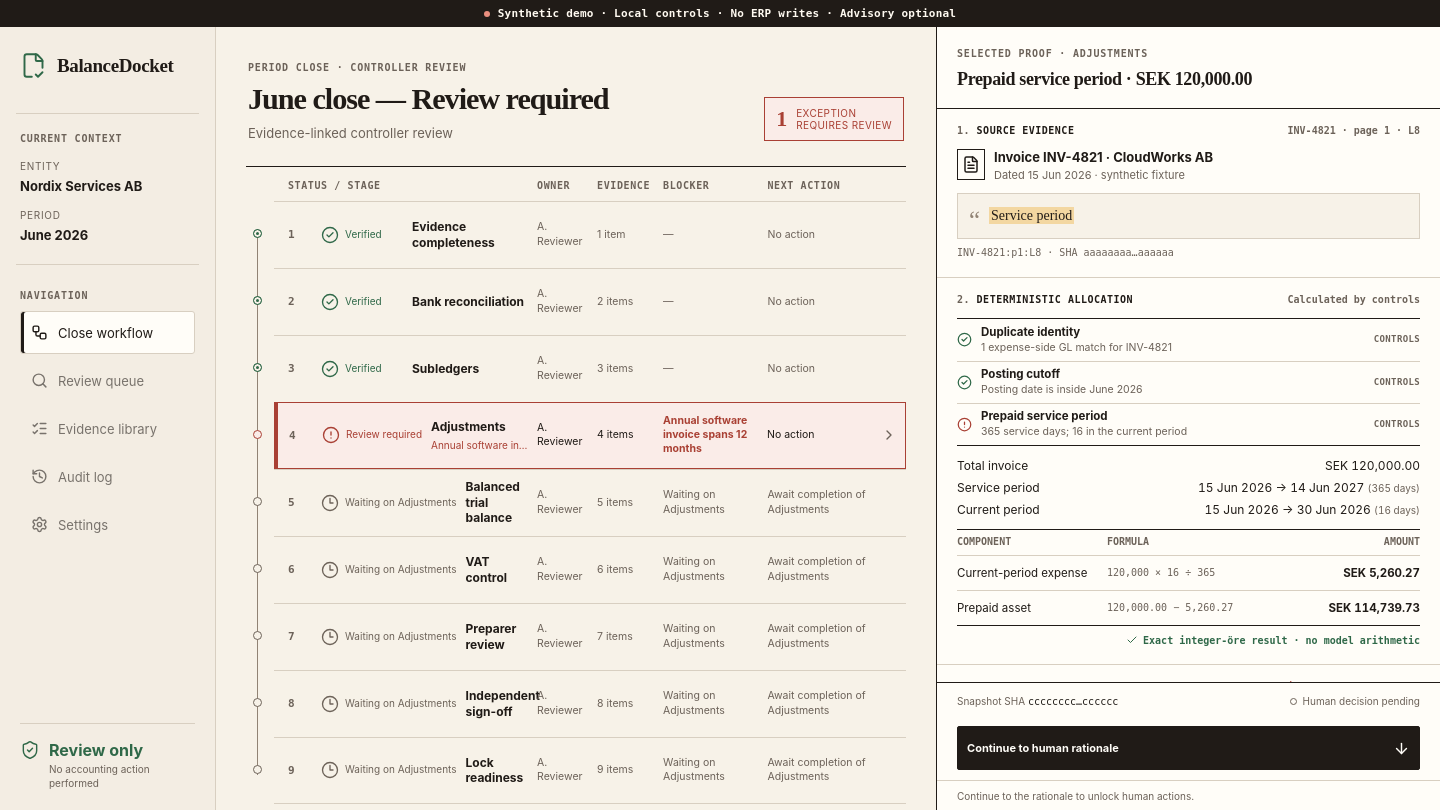
BalanceDocket reviewer › guides the reviewer to rationale before recording the bound decision
expect the button "Approve treatment" is not shown: met
Click the button "Continue to human rationale" at (1043, 748), box [957,726,1420,770]
(page scrolled)
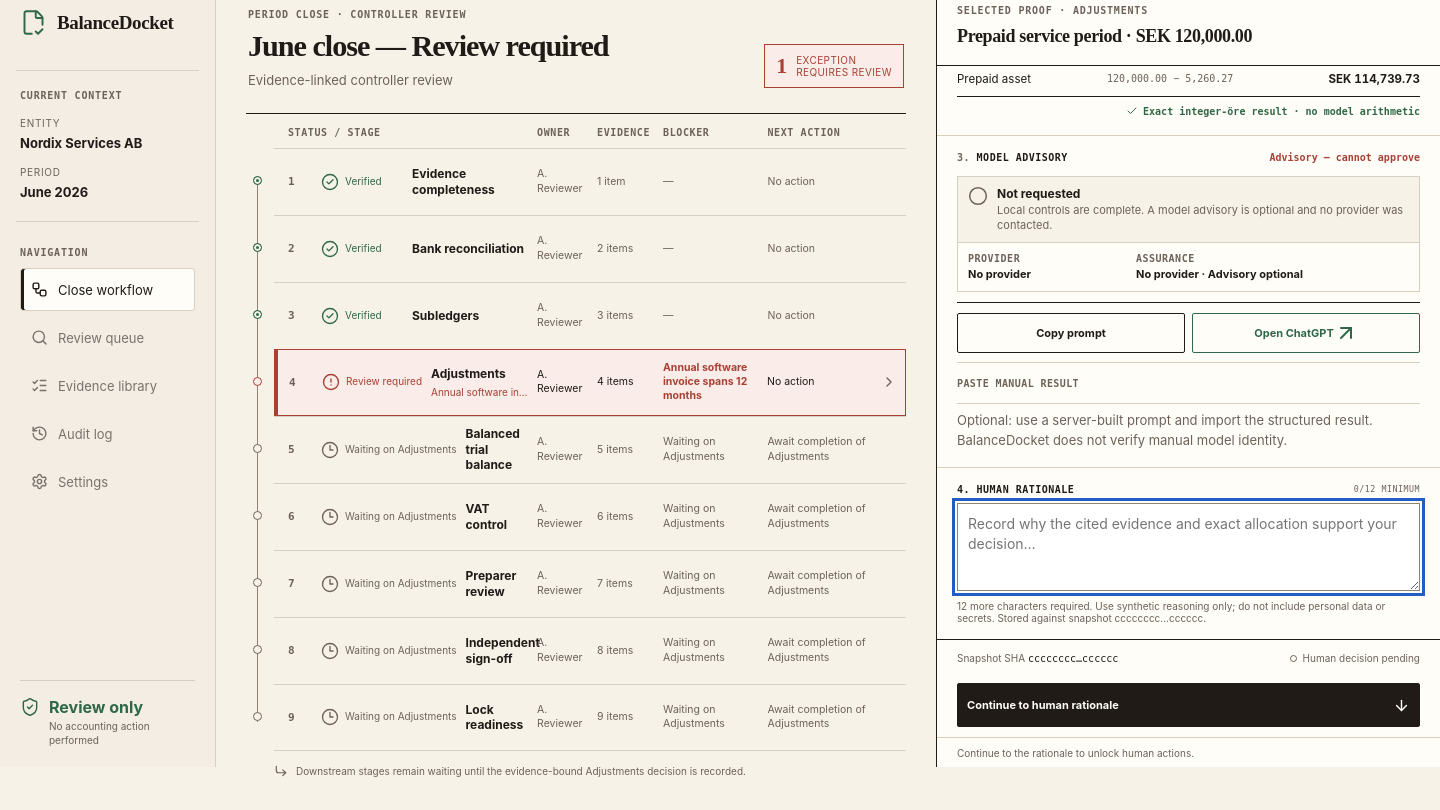
Type "The exact allocation agrees with the cited evidence and policy." into the text box labelled "4. Human rationale 0/12 minimum" at (1188, 547), box [957,503,1420,591]
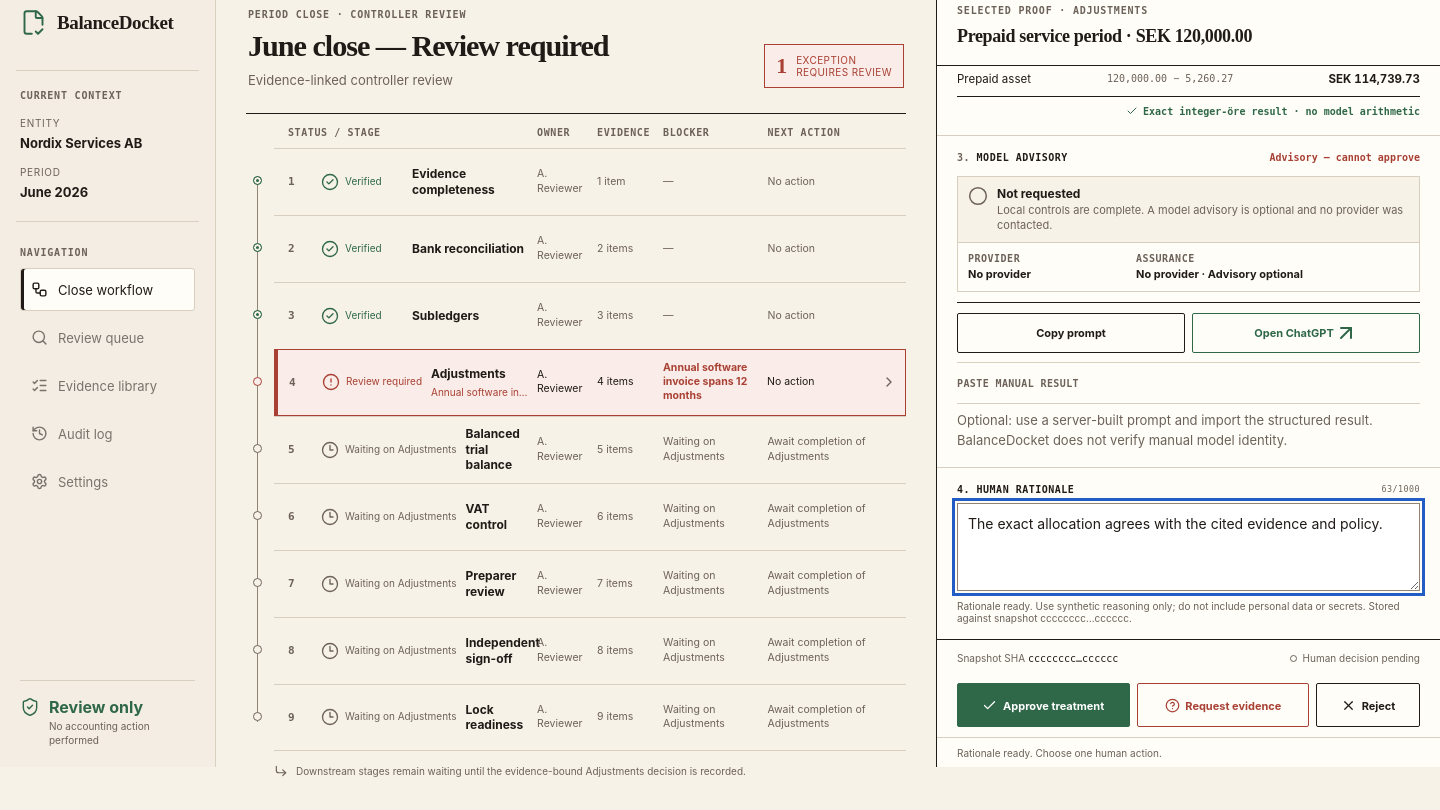
Click the button "Approve treatment" at (1043, 705), box [957,683,1130,727]
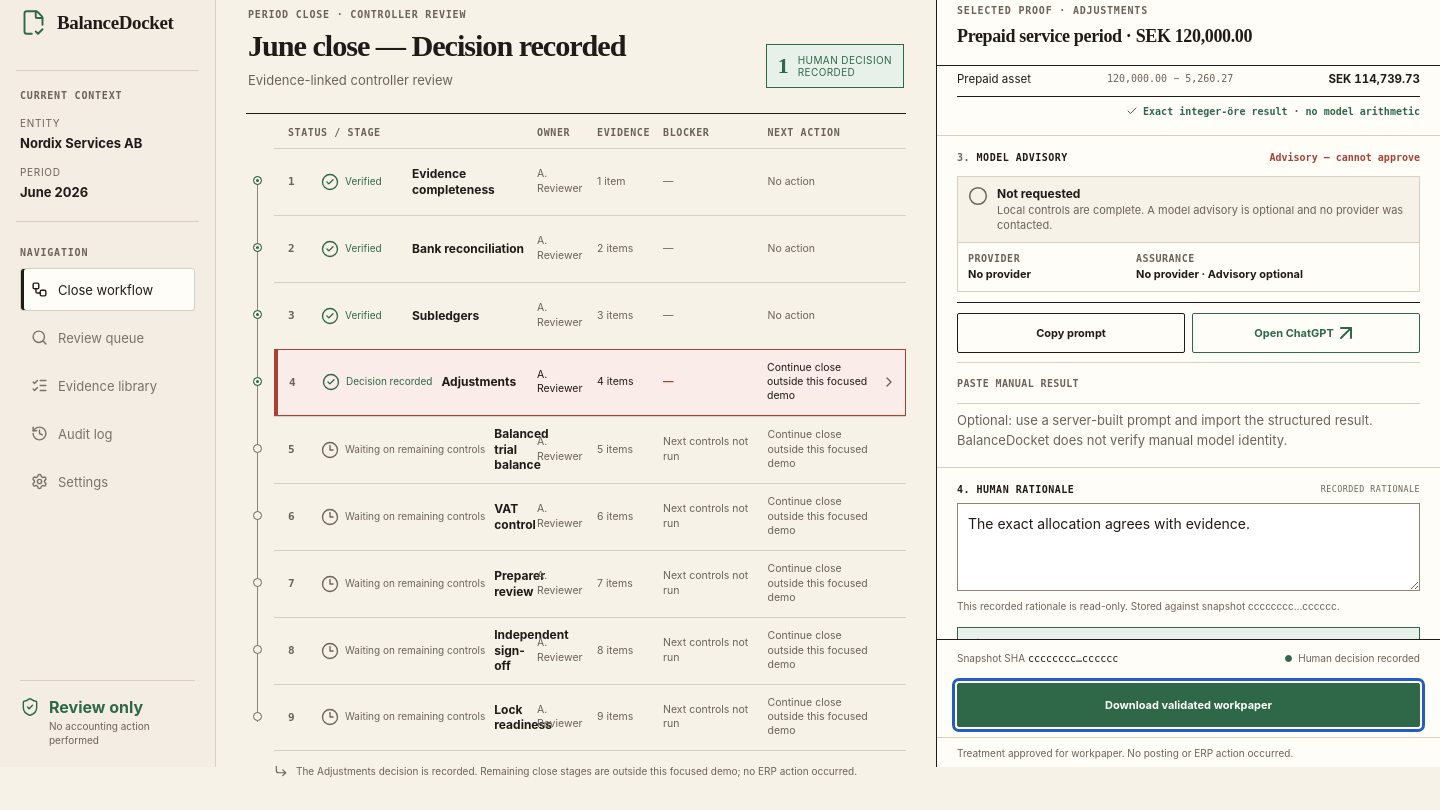
expect the heading "June close — Decision recorded" is shown: met, box [248,30,626,63]
expect the element named "1 human decision recorded" is shown: met, box [766,44,904,88]
expect the button with aria-label "4. Adjustments. Decision recorded" is shown: met, box [274,349,906,416]
